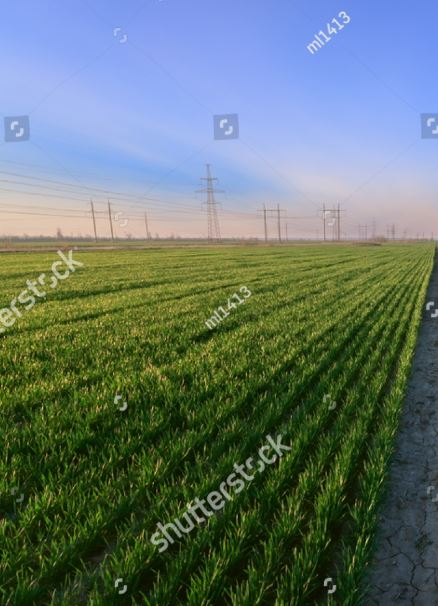Wheat: (38, 334, 374, 518)
